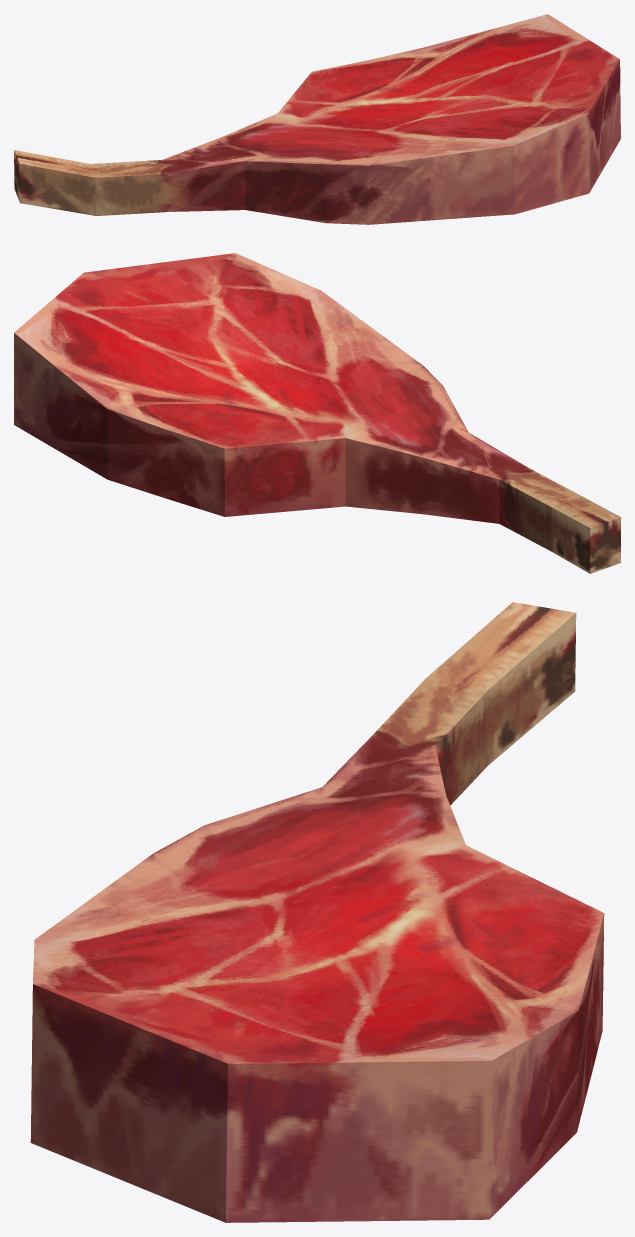
File: 09_meat_piece_07.obj
3 views of the same model, one above another, from view 1: azimuth 30°, elevation 25°; view 2: azimuth 150°, elevation 25°; view 3: azimuth 270°, elevation 25° (orthographic). The views are drawn at different scales.
Visible parts, largest first — view 1: 09_meat_piece_07; view 2: 09_meat_piece_07; view 3: 09_meat_piece_07.
Part boxes in pixels (box(x1,y1,x2,y2)): 09_meat_piece_07: box(14, 14, 620, 224); 09_meat_piece_07: box(14, 253, 620, 573); 09_meat_piece_07: box(30, 602, 604, 1222).
Size of the model in its own units: 2.14 by 0.3406 by 1.
1 material, 1 textured.
